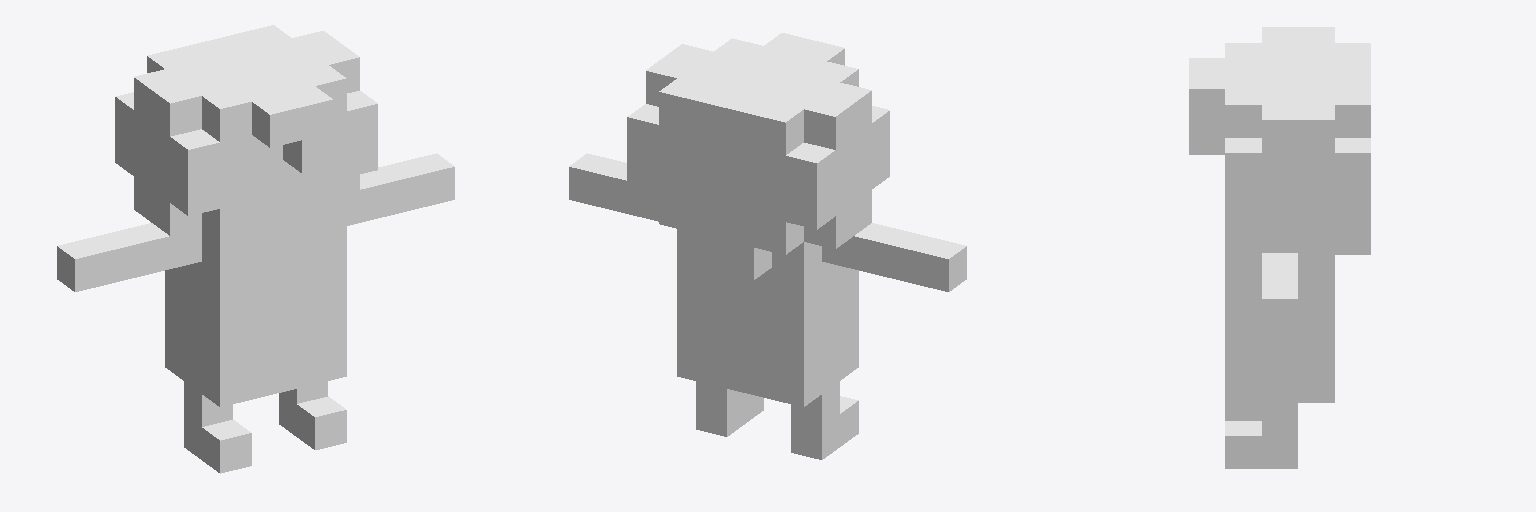
The model's file is minion.obj.
The picture shows the model from 3 angles: view 1: azimuth 30°, elevation 25°; view 2: azimuth 150°, elevation 25°; view 3: azimuth 270°, elevation 25°; orthographic projection.
Parts seen in each view (by area): view 1: object 1; view 2: object 1; view 3: object 1.
Boxes of the visible parts, <box> form: object 1: <box>57,25,454,473</box>; object 1: <box>569,33,966,459</box>; object 1: <box>1189,27,1370,468</box>.
Size of the model in its own units: 1.2 by 1.1 by 0.5.